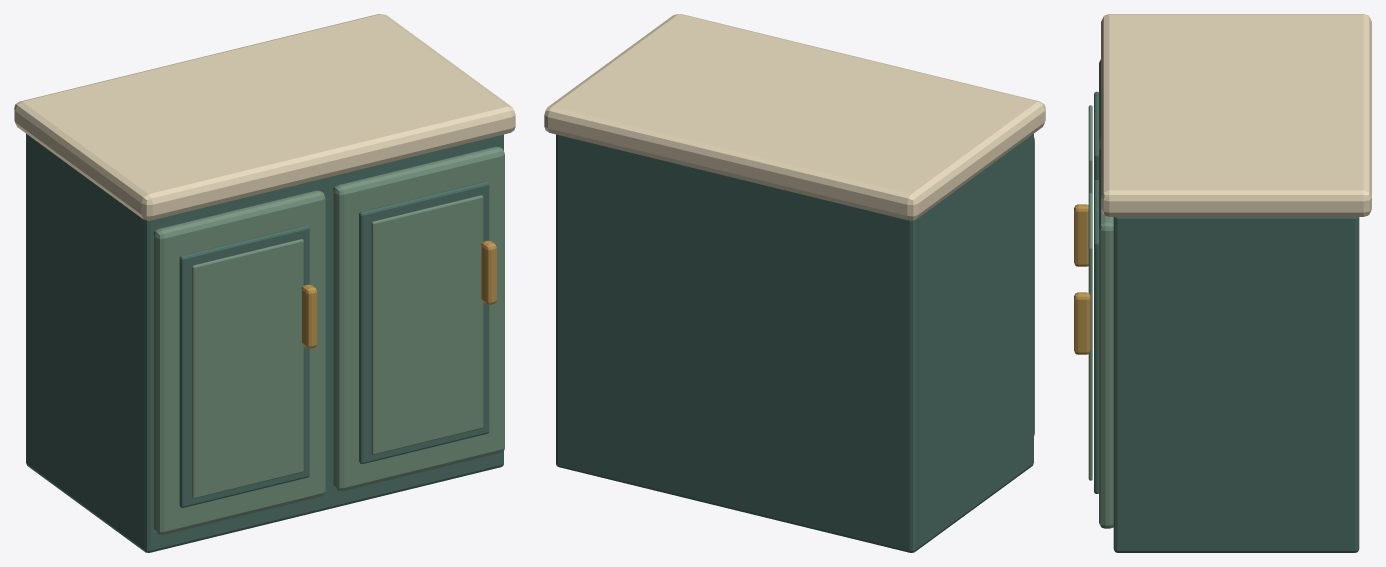
The model's file is SM_CH_Story_Cabinet.fbx.
3 renders of one model, left to right at view 1: azimuth 30°, elevation 25°; view 2: azimuth 150°, elevation 25°; view 3: azimuth 270°, elevation 25°, orthographic.
Visible parts, largest first — view 1: SM_CH_Story_Cabinet; view 2: SM_CH_Story_Cabinet; view 3: SM_CH_Story_Cabinet.
Boxes of the visible parts, x1,y1,x2,y2 form: SM_CH_Story_Cabinet: (14,14,515,552); SM_CH_Story_Cabinet: (544,14,1045,552); SM_CH_Story_Cabinet: (1074,14,1371,552).
Bounding box in the file's own units: 10400 × 7150 × 9650.
